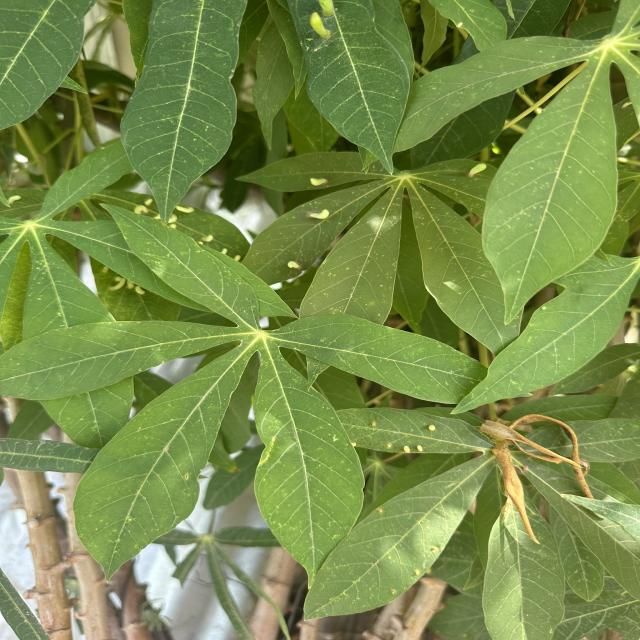Mosca: (299, 0, 346, 43), (102, 263, 151, 299), (162, 204, 201, 233), (458, 155, 495, 185), (189, 223, 219, 250), (302, 203, 331, 230), (130, 194, 159, 221), (391, 434, 430, 453), (306, 169, 336, 191), (280, 250, 308, 273), (405, 562, 432, 585), (417, 536, 445, 558), (360, 413, 387, 434), (381, 581, 405, 603), (225, 243, 245, 269), (423, 417, 441, 437)
